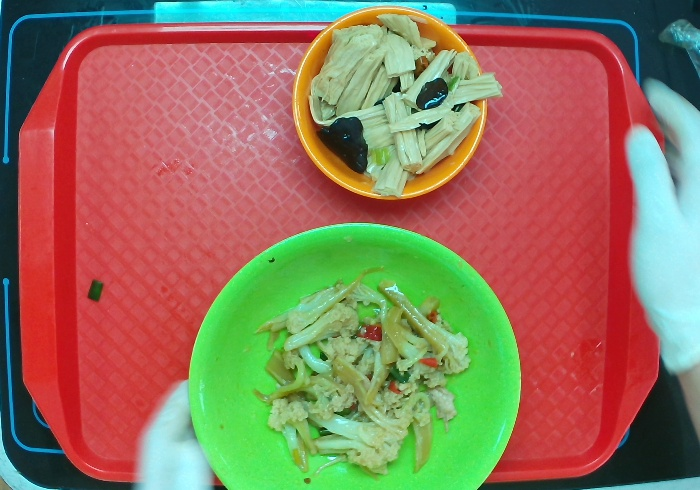YKMZ-Ju_Se_Yuan_Wan: (290, 4, 488, 206)
YKMZ-Lv_Se_Tang_Wan: (187, 225, 525, 490)
